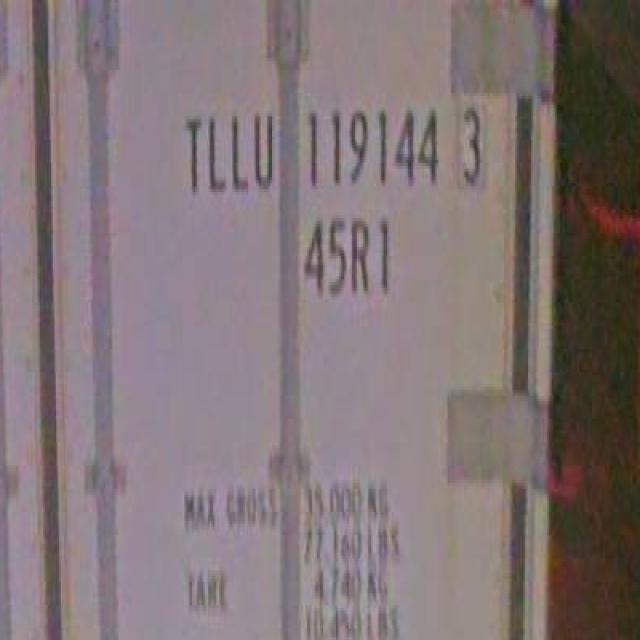dv: (455, 93, 486, 190)
owner: (179, 95, 277, 200)
serial: (301, 92, 445, 191)
size: (296, 211, 404, 301)
